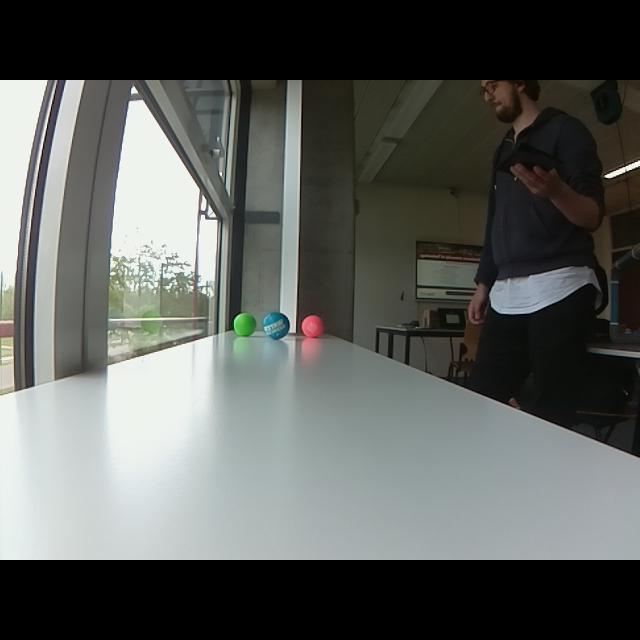ball: (231, 309, 259, 339), (300, 313, 324, 340)
